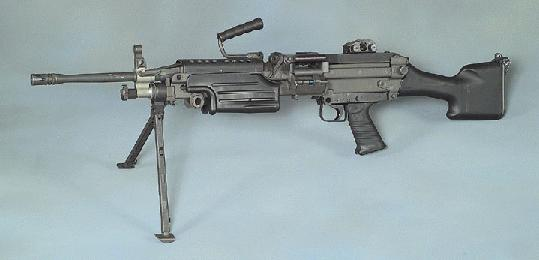rifle: (14, 24, 529, 236)
